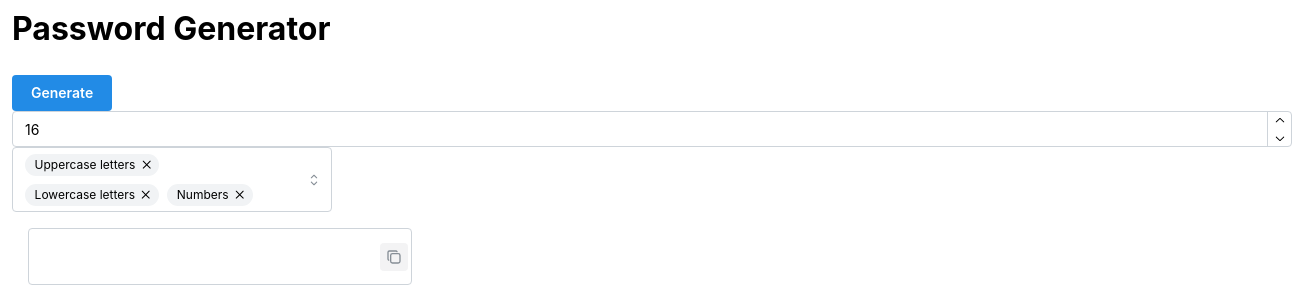
Test case: PasswordGenerator › generates password when clicking Generate button
Step 1. Click the button "Generate" → point(62, 94), box x1=12 y1=76 x2=112 y2=112
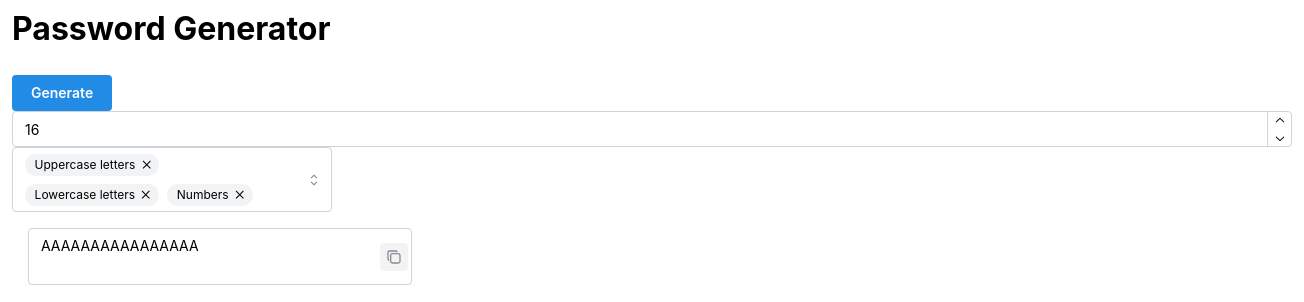
Check: the text box named "Generated password" is not empty, box x1=28 y1=228 x2=412 y2=285
